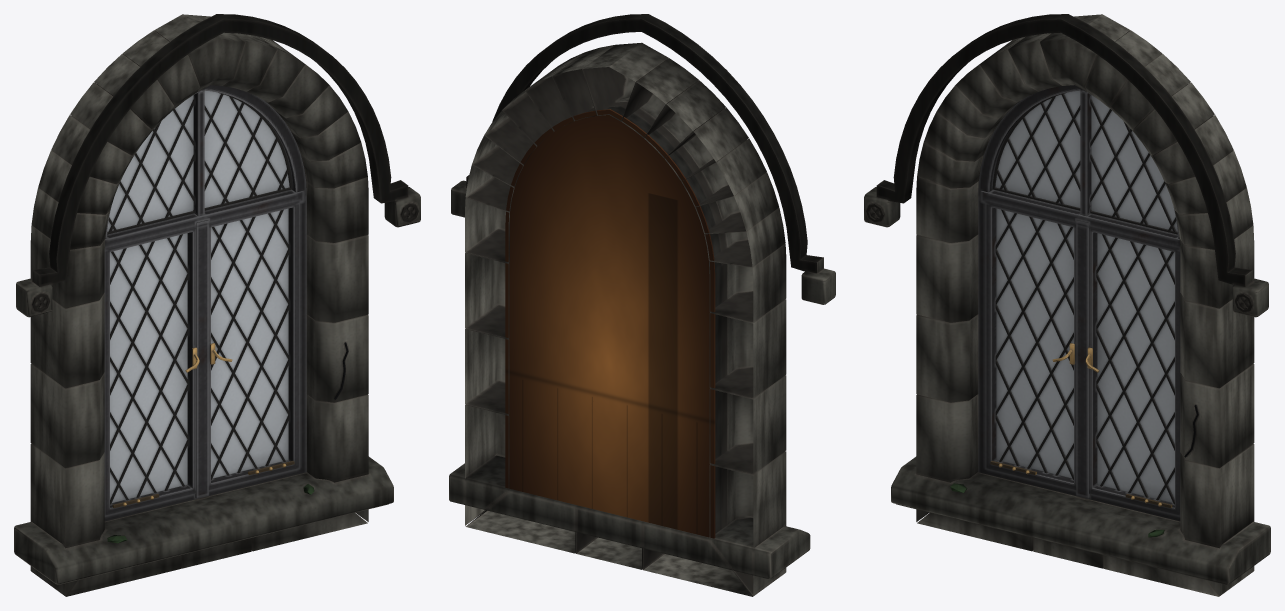
File: DiamondPaneArch.fbx
3 renders of one model, left to right at view 1: azimuth 30°, elevation 25°; view 2: azimuth 150°, elevation 25°; view 3: azimuth 330°, elevation 25°, orthographic. The views are drawn at different scales.
Parts seen in each view (by area): view 1: DiamondPaneArch_Main, DiamondPaneArch_Glass; view 2: DiamondPaneArch_Main, DiamondPaneArch_Room; view 3: DiamondPaneArch_Main, DiamondPaneArch_Glass.
Boxes of the visible parts, x1,y1,x2,y2 form: DiamondPaneArch_Main: (14,14,420,596); DiamondPaneArch_Glass: (107,90,289,502); DiamondPaneArch_Main: (449,14,835,596); DiamondPaneArch_Room: (505,109,715,538); DiamondPaneArch_Main: (864,14,1270,596); DiamondPaneArch_Glass: (995,90,1177,502).
Size of the model in its own units: 524 by 693 by 100.
